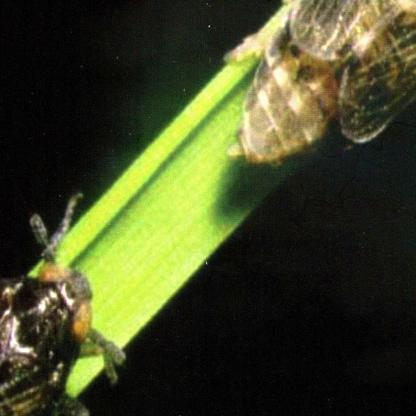brown-planthopper: (228, 0, 416, 167), (0, 263, 106, 416)
